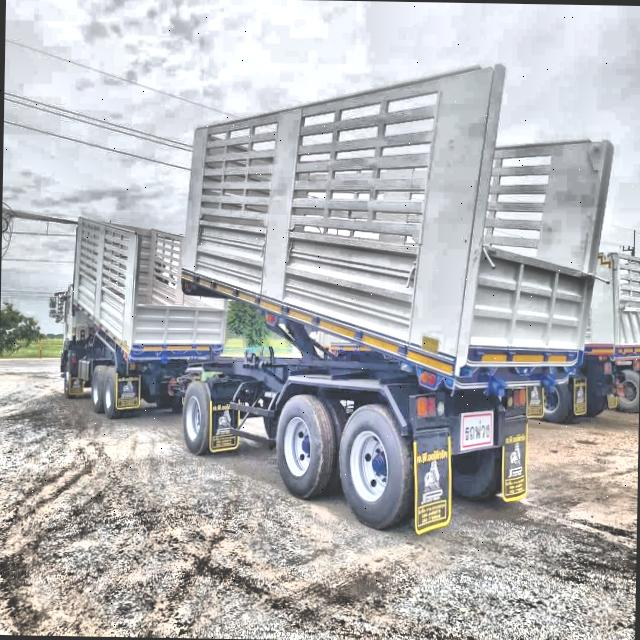trailer: (42, 64, 620, 549)
